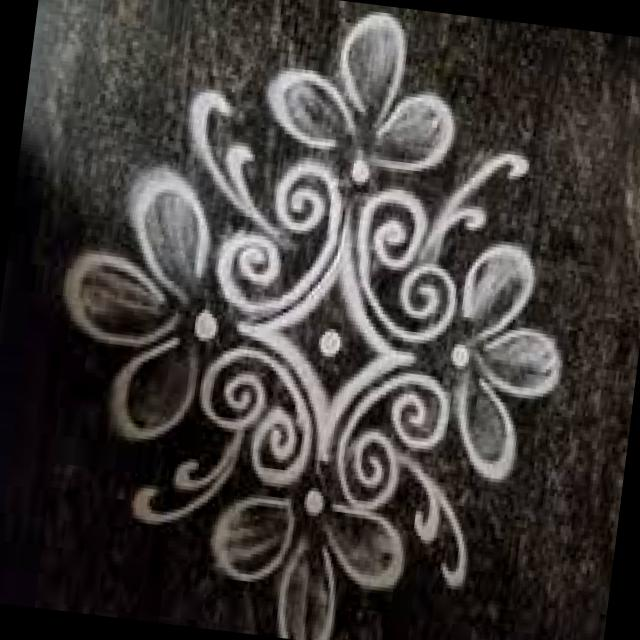rangoli: (12, 0, 614, 640)
